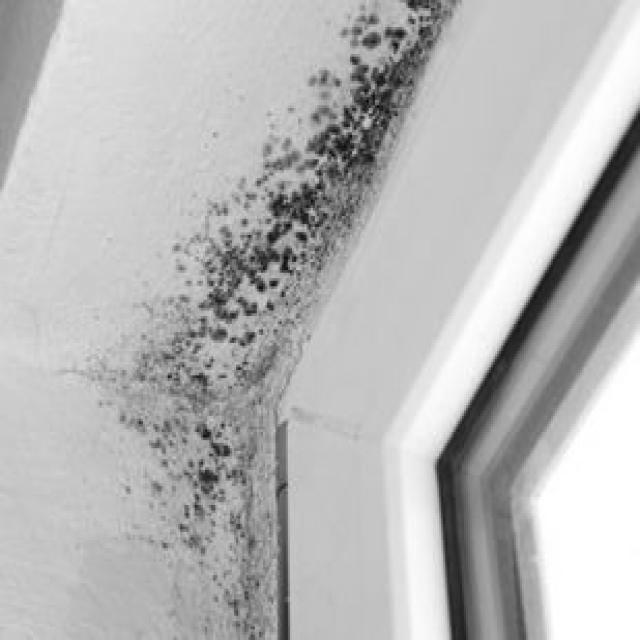stain marks: (78, 140, 254, 632), (200, 0, 451, 132), (244, 105, 346, 391), (348, 132, 396, 216)
